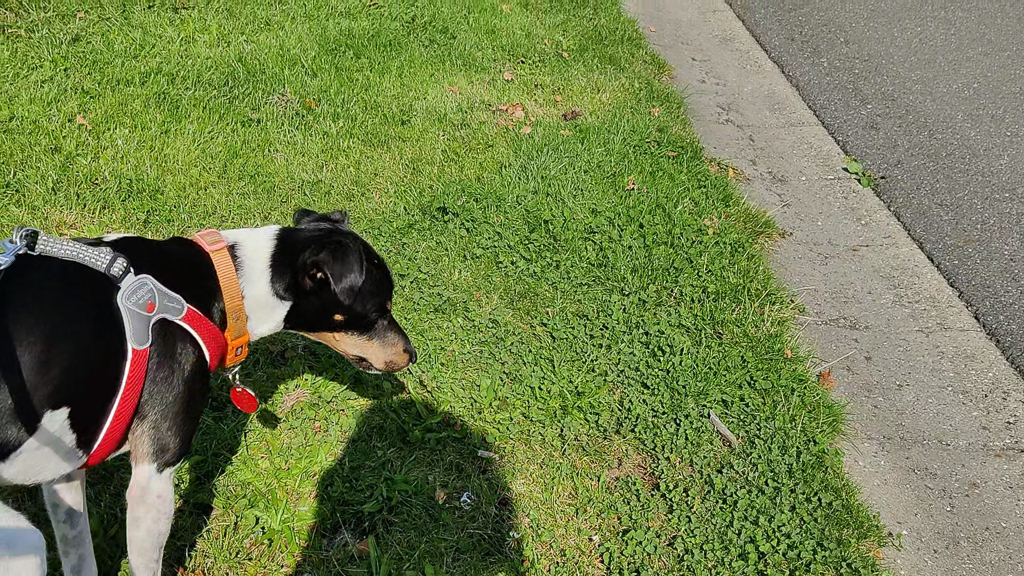Dog: (0, 197, 435, 574)
